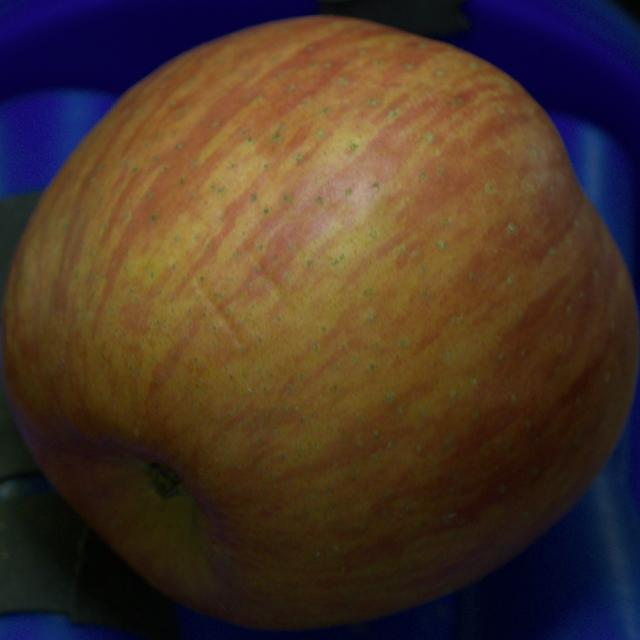apple: (1, 16, 639, 629)
bruise: (193, 267, 249, 348), (246, 251, 297, 312)
